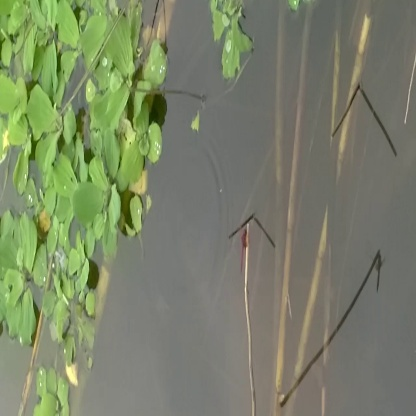branch: (268, 13, 335, 413)
